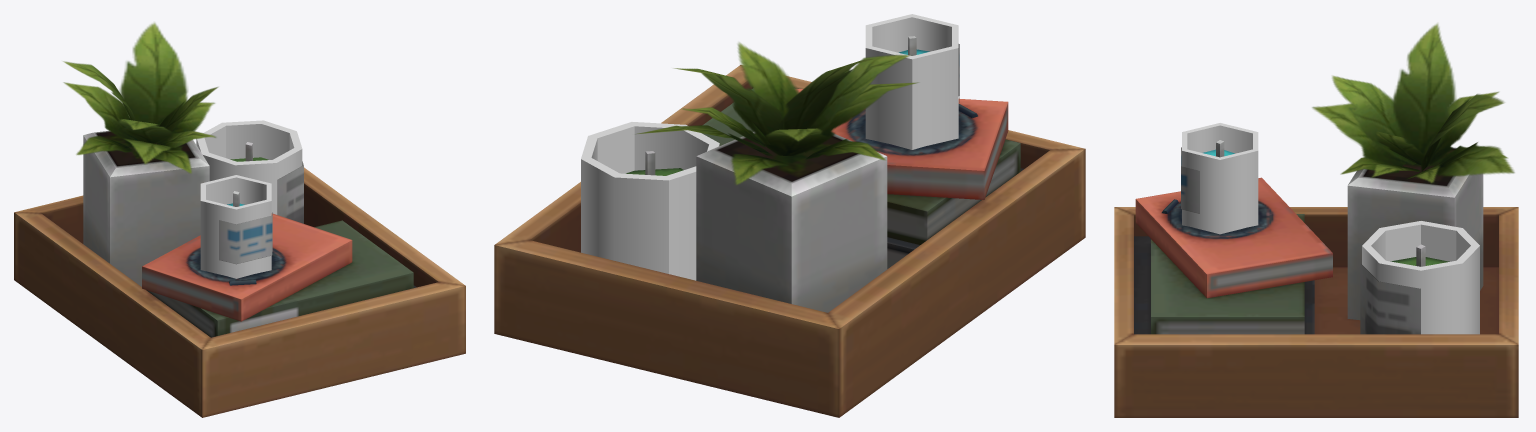
The model's file is home_plant.glb.
The picture shows the model from 3 angles, left to right: view 1: azimuth 30°, elevation 25°; view 2: azimuth 150°, elevation 25°; view 3: azimuth 270°, elevation 25°; orthographic projection. The views are drawn at different scales.
Parts seen in each view (by area): view 1: TinyLiving_MyKindaZen, s4studio_mesh_2.002; view 2: TinyLiving_MyKindaZen, s4studio_mesh_2.002; view 3: TinyLiving_MyKindaZen, s4studio_mesh_2.002.
Part boxes in pixels (x1=…): TinyLiving_MyKindaZen: x1=14, y1=22, x2=465, y2=417; s4studio_mesh_2.002: x1=196, y1=120, x2=302, y2=278; TinyLiving_MyKindaZen: x1=494, y1=36, x2=1085, y2=417; s4studio_mesh_2.002: x1=581, y1=14, x2=958, y2=280; TinyLiving_MyKindaZen: x1=1114, y1=23, x2=1518, y2=417; s4studio_mesh_2.002: x1=1182, y1=123, x2=1479, y2=334.
Bounding box in the file's own units: 0.3785 × 0.3414 × 0.4719.
2 materials, 1 textured.
